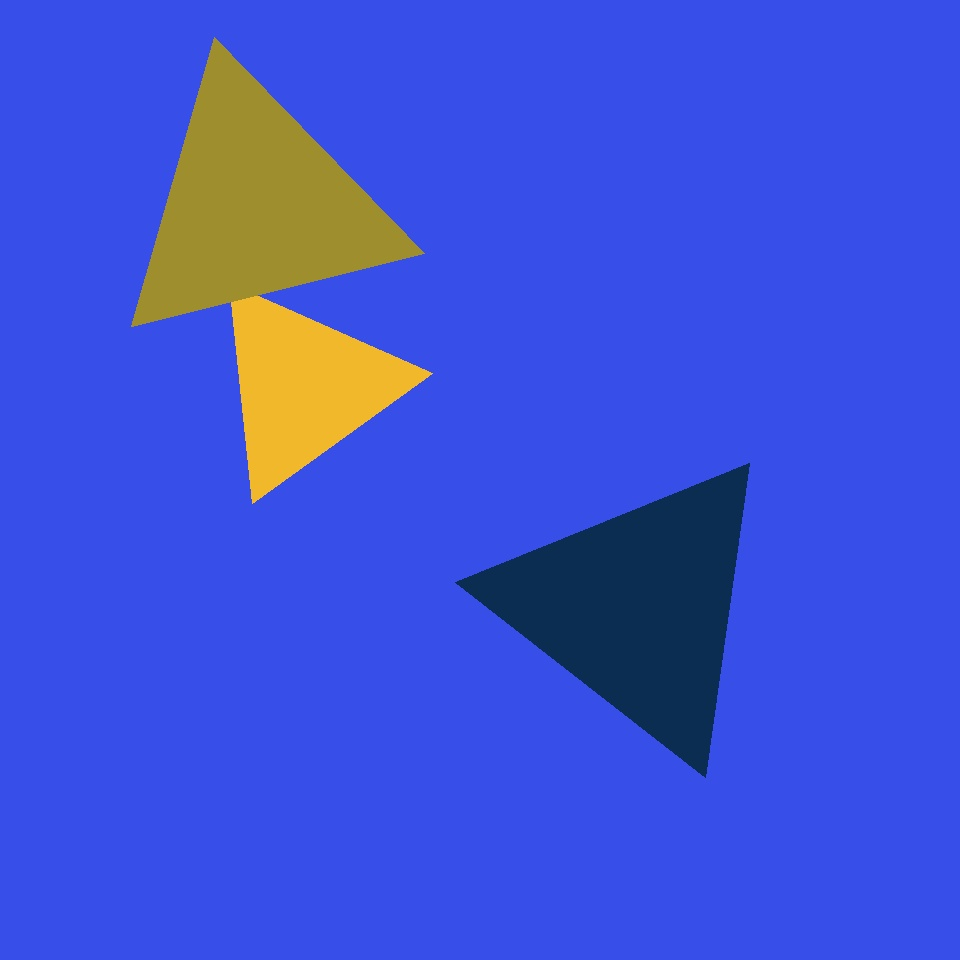circle: (490, 451, 784, 765), (110, 61, 404, 350), (204, 277, 406, 497)
square: (172, 406, 443, 677)
triangle: (256, 431, 554, 729)
